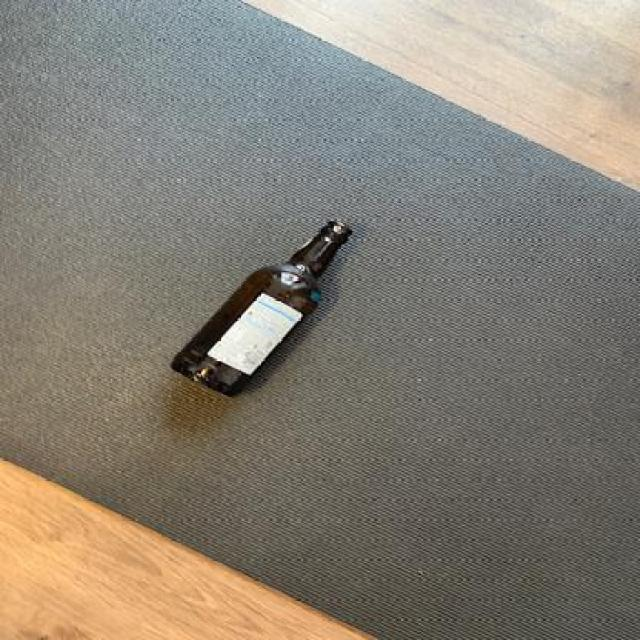trash: (161, 212, 359, 402)
